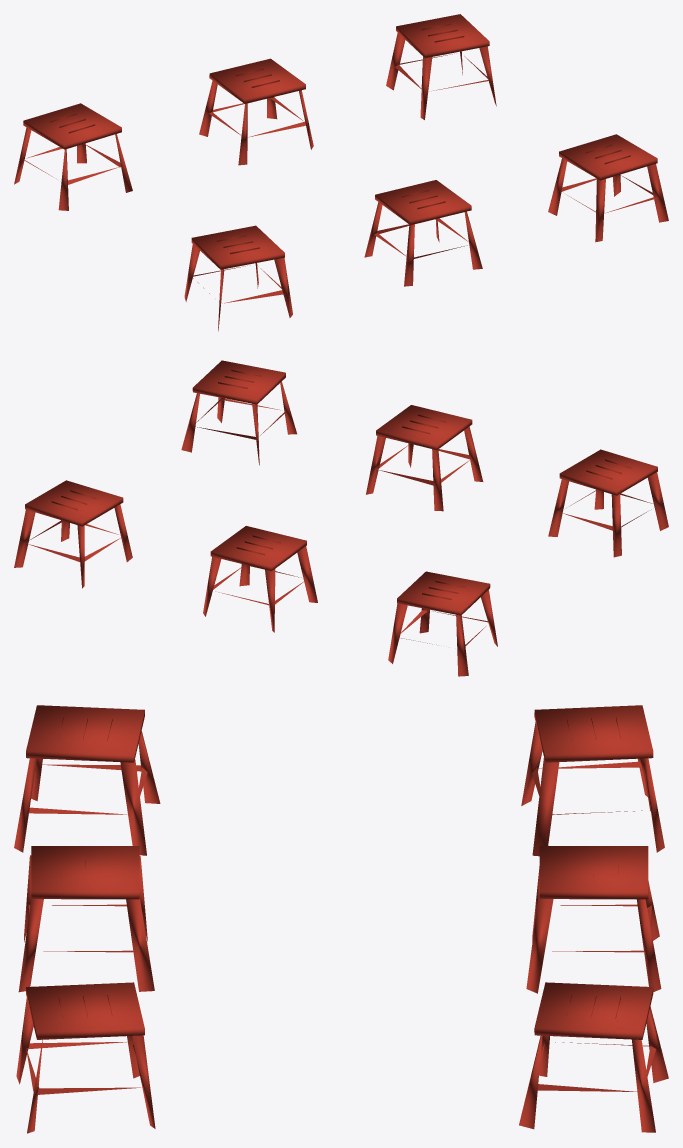
Rendered from ghe_dau_nhua.glb.
3 views of the same model, one above another, from view 1: azimuth 30°, elevation 25°; view 2: azimuth 150°, elevation 25°; view 3: azimuth 270°, elevation 25° (orthographic). The views are drawn at different scales.
Visible parts, largest first — view 1: ghe_dau_nhua; view 2: ghe_dau_nhua; view 3: ghe_dau_nhua.
Boxes of the visible parts, x1,y1,x2,y2 form: ghe_dau_nhua: [14, 14, 668, 331]; ghe_dau_nhua: [14, 360, 668, 676]; ghe_dau_nhua: [14, 705, 668, 1133].
Size of the model in its own units: 1.96 by 0.2699 by 1.6.
